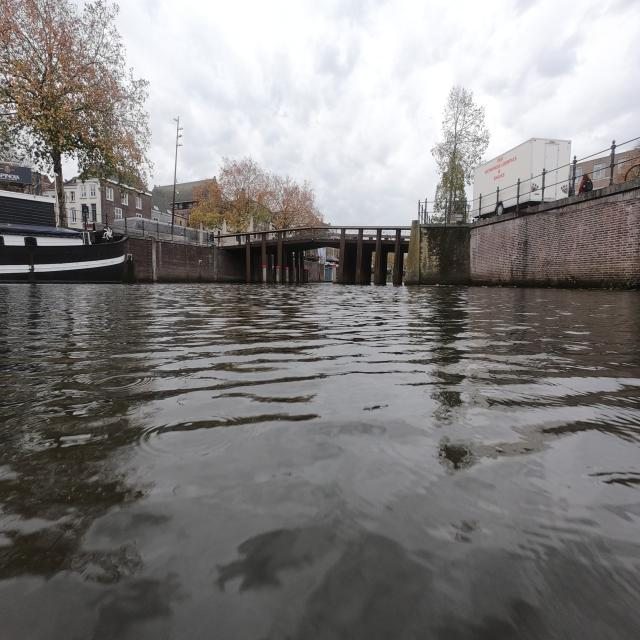boat: (8, 244, 134, 282)
sky: (124, 4, 638, 222)
tree: (2, 2, 152, 222), (192, 156, 326, 230), (431, 85, 490, 222)
wall: (406, 186, 638, 288), (128, 238, 234, 280)
water: (8, 290, 638, 634)
